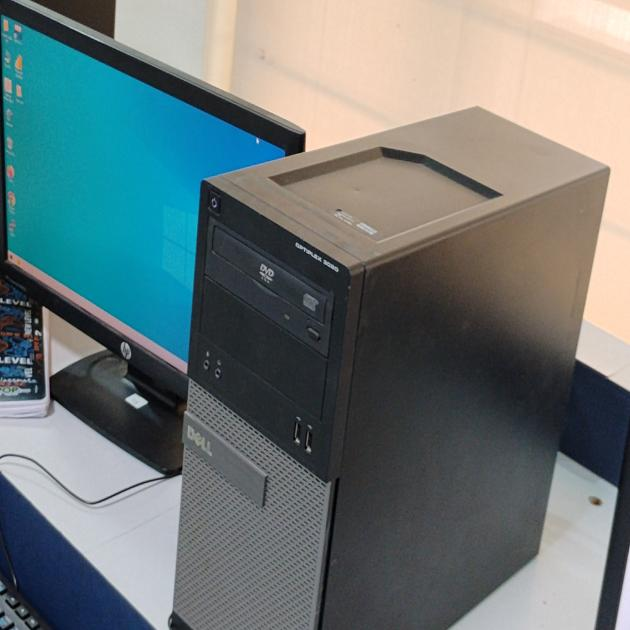computer: (4, 5, 248, 416)
cpu: (257, 168, 514, 630)
